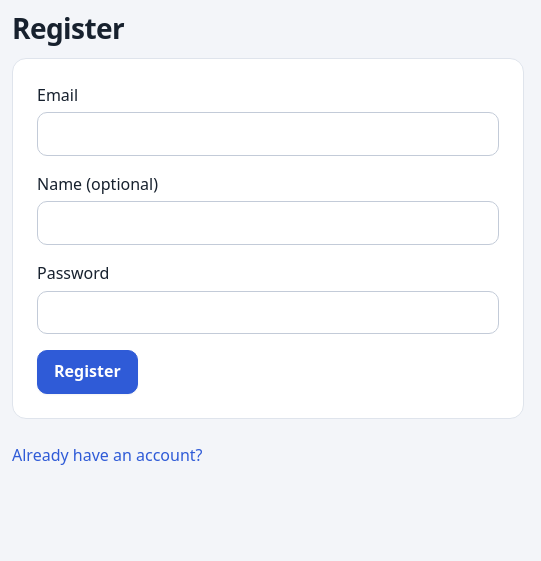
Test: authentication pages (phase 3 §4.2) › shows a conflict message when the email is already registered
The image size is (541, 561).
Type "taken@example.com" into the field labelled "Email" at point(268, 134), box [37,112,499,156]
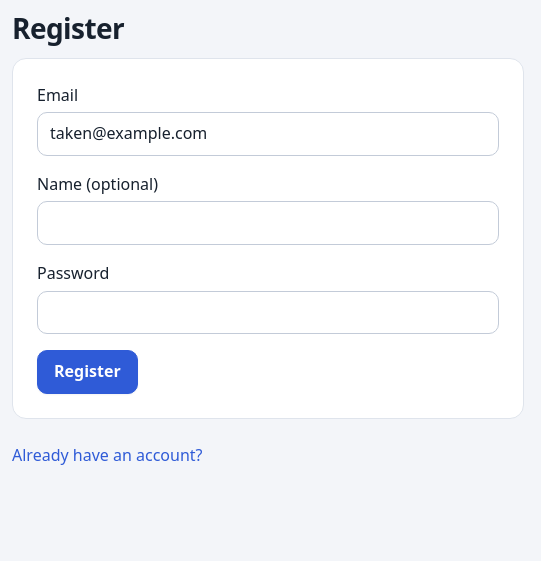
Type "password-123" into the password field labelled "Password" at point(268, 312), box [37,291,499,334]
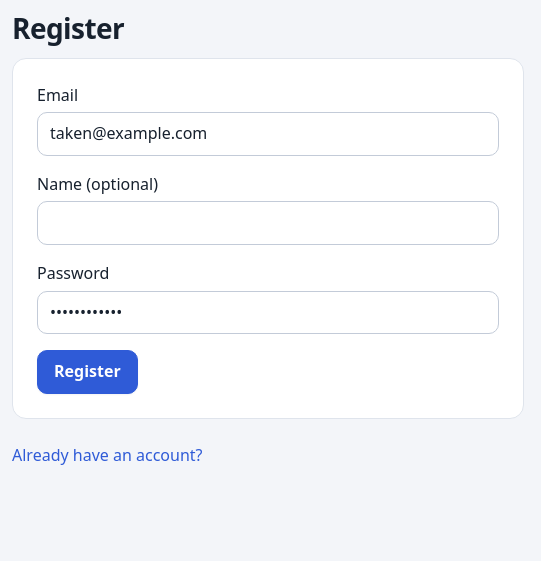
Click the button "Register" at point(87, 372), box [37,350,138,394]
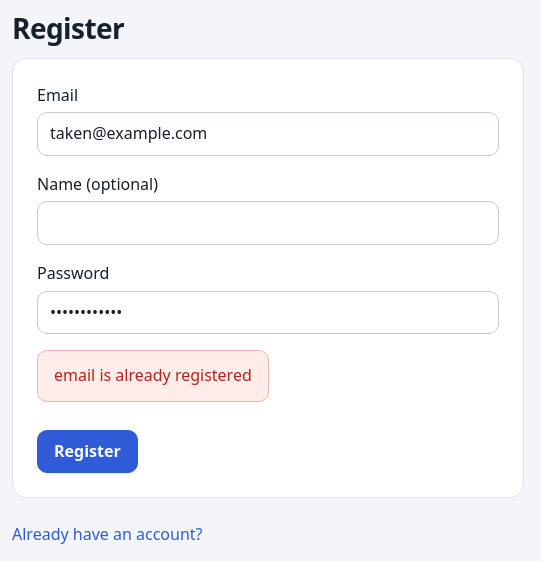
Check: the message "email is already registered" is shown, box [37,350,269,402]
Check: the message reads "email is already registered", box [54,364,252,386]
